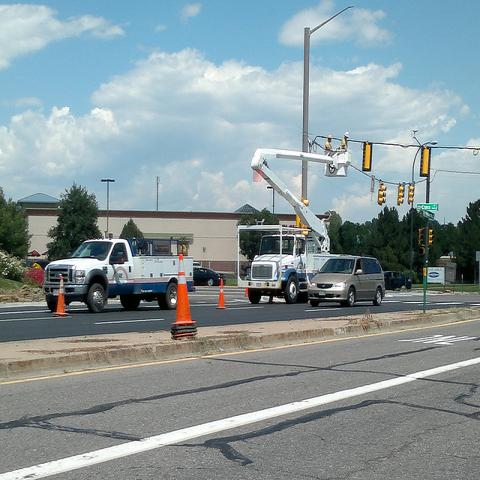car: (308, 255, 385, 307), (194, 267, 226, 286), (384, 271, 412, 290), (193, 261, 203, 269)
truck: (236, 146, 352, 306), (43, 239, 197, 313)
